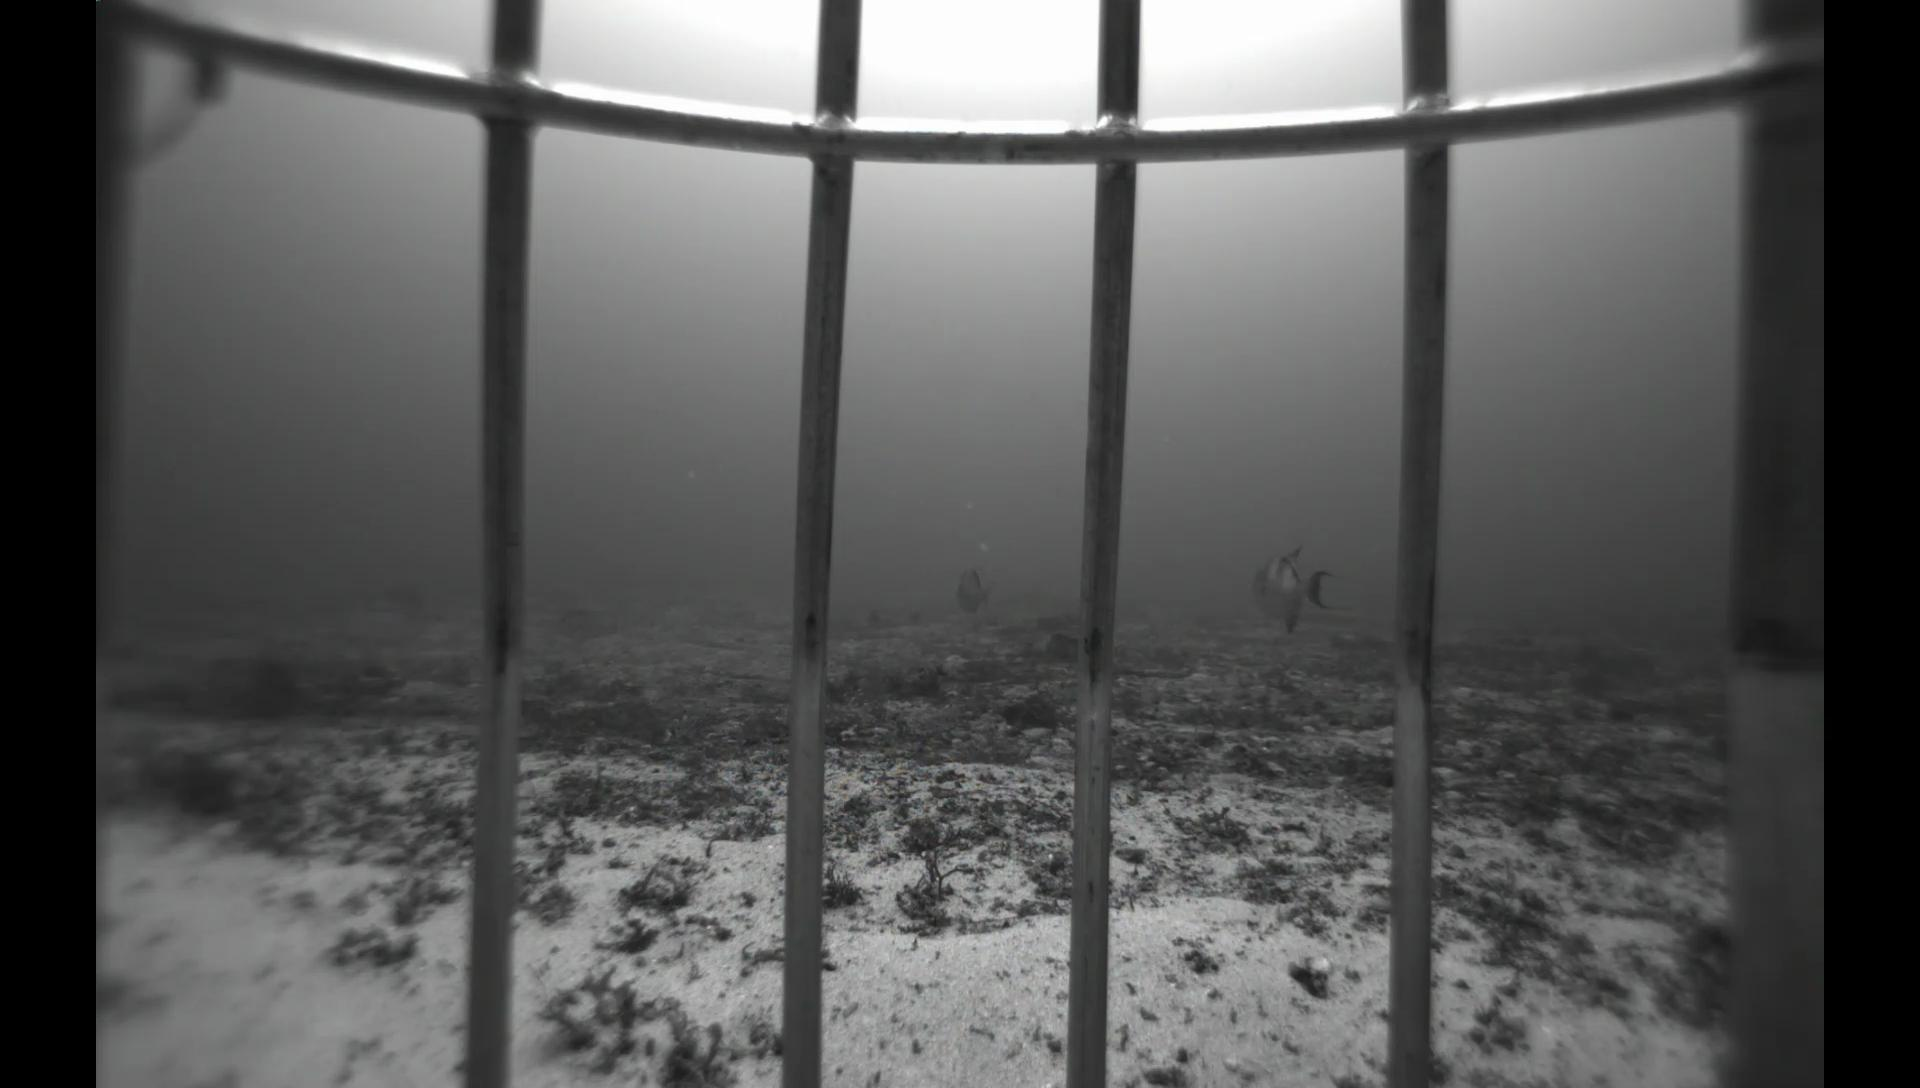BALISTESCAPRISCUS-189030502: (1244, 535, 1367, 648), (945, 564, 1000, 622)
LUTJANUSGRISEUS-170151109: (551, 601, 634, 648)
